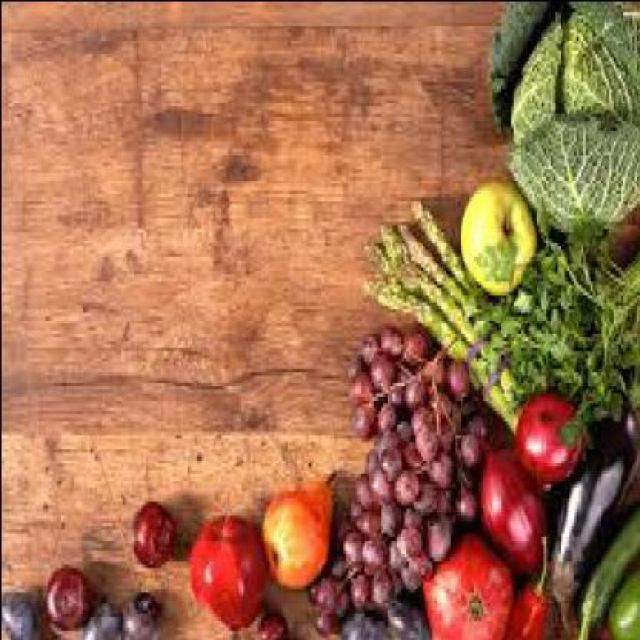BIODEGRADABLE: (464, 195, 638, 391), (491, 2, 638, 226), (365, 235, 524, 413), (377, 216, 512, 413), (398, 216, 522, 413), (410, 196, 521, 407), (364, 272, 522, 420), (550, 396, 638, 638), (421, 526, 514, 636), (477, 441, 554, 573), (456, 171, 538, 291), (188, 511, 266, 626), (262, 465, 338, 581), (578, 497, 638, 640), (516, 388, 587, 486), (510, 529, 553, 636), (133, 497, 176, 563), (49, 564, 93, 622), (608, 563, 638, 639), (2, 584, 40, 636), (388, 591, 430, 637), (426, 392, 460, 448), (124, 588, 161, 637), (454, 465, 481, 524), (84, 598, 121, 636), (429, 511, 456, 560), (456, 395, 489, 434), (346, 606, 388, 636), (315, 566, 342, 612), (412, 464, 440, 508), (368, 346, 398, 385), (342, 521, 366, 567), (372, 563, 396, 609), (426, 338, 451, 382), (445, 350, 470, 392), (352, 391, 376, 434), (428, 444, 458, 478), (406, 503, 428, 549), (382, 492, 404, 536), (395, 462, 423, 496), (456, 430, 484, 464), (403, 322, 428, 360), (364, 528, 388, 567), (351, 566, 372, 609), (372, 465, 394, 504), (261, 606, 288, 636), (420, 417, 442, 451), (356, 468, 375, 507), (382, 444, 403, 478), (377, 396, 398, 430), (403, 434, 426, 464), (400, 553, 422, 584), (359, 504, 384, 531), (405, 374, 426, 406), (335, 581, 351, 619), (378, 423, 402, 448), (382, 322, 407, 346), (352, 368, 374, 395), (388, 532, 407, 563), (344, 346, 365, 374), (440, 472, 455, 511), (361, 329, 379, 360), (366, 444, 382, 476), (415, 542, 433, 570), (315, 605, 333, 629), (401, 412, 416, 437), (349, 497, 363, 521), (391, 381, 407, 399), (342, 504, 352, 531), (310, 573, 318, 595)
